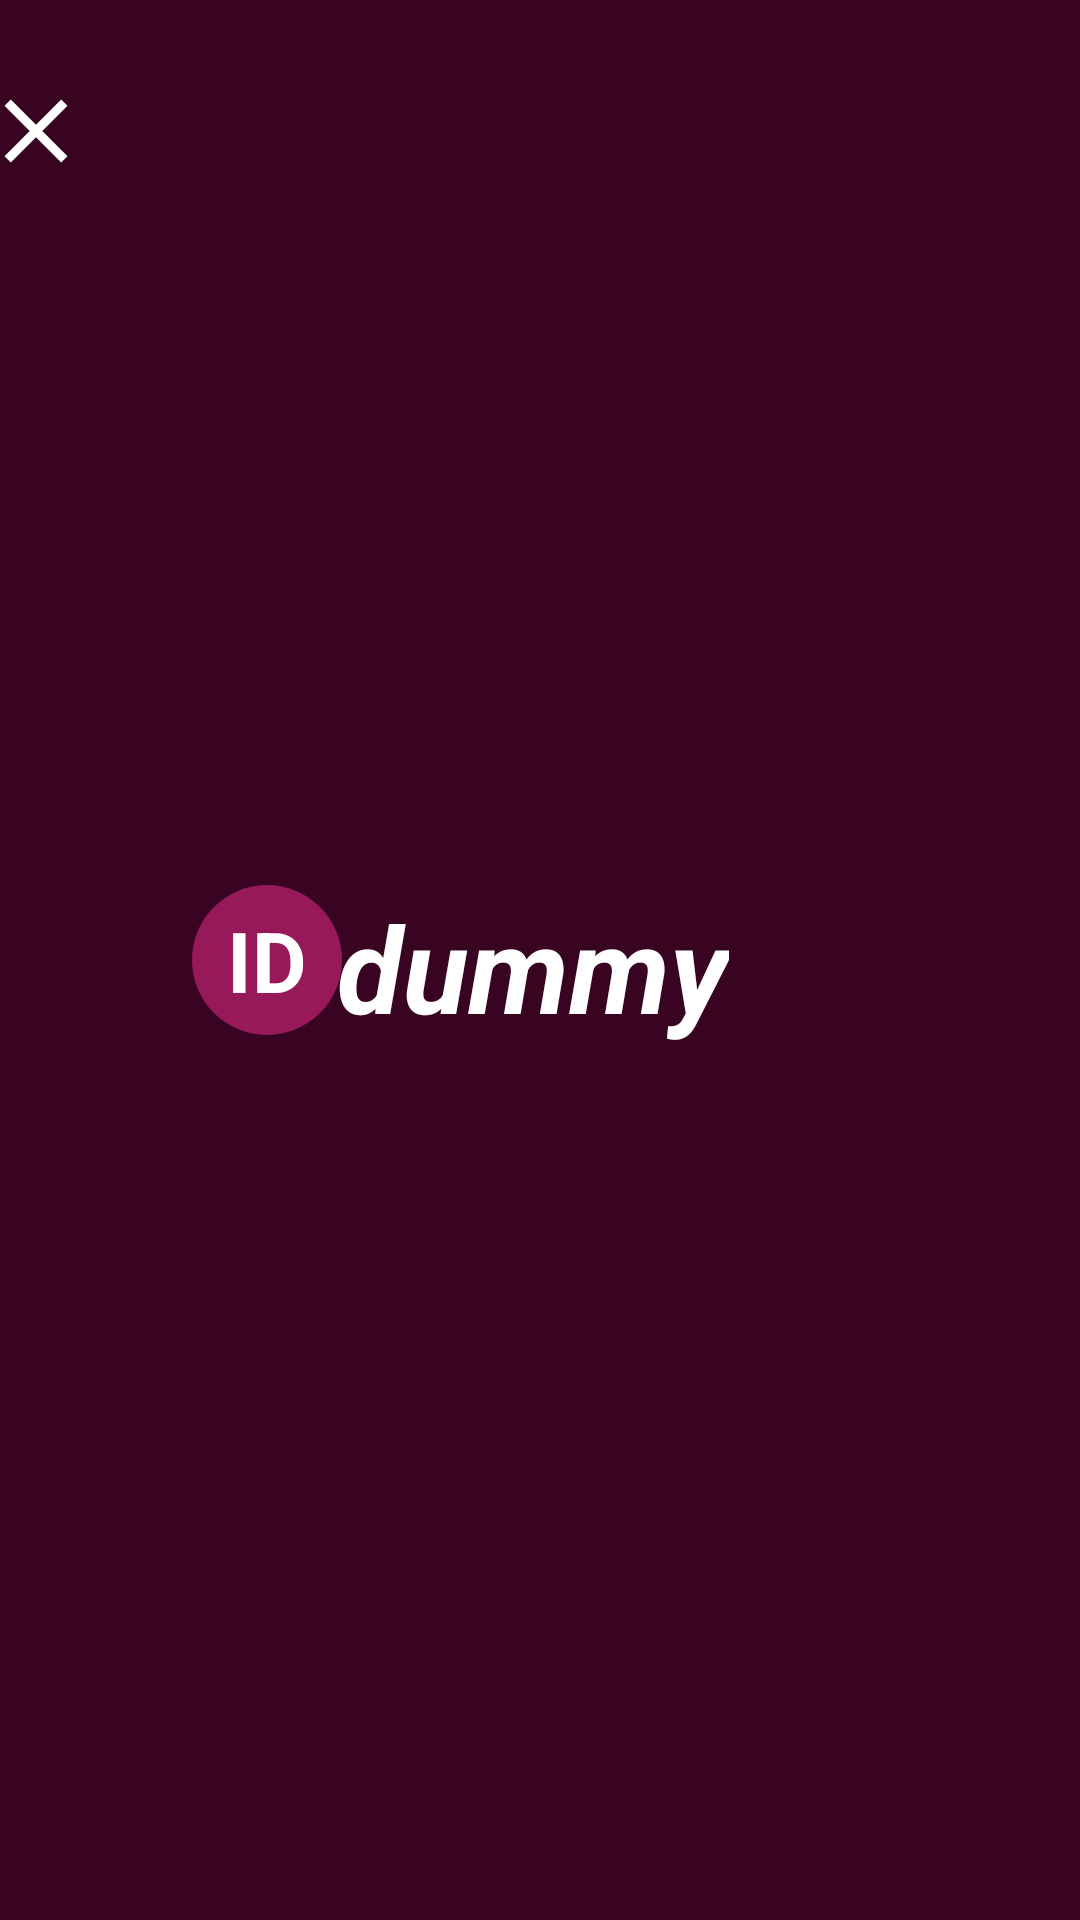

Icons on this 1080px×1920px Android screen, each with its box as (x1, y1, x2, y2):
Close: (4, 99, 68, 163)
